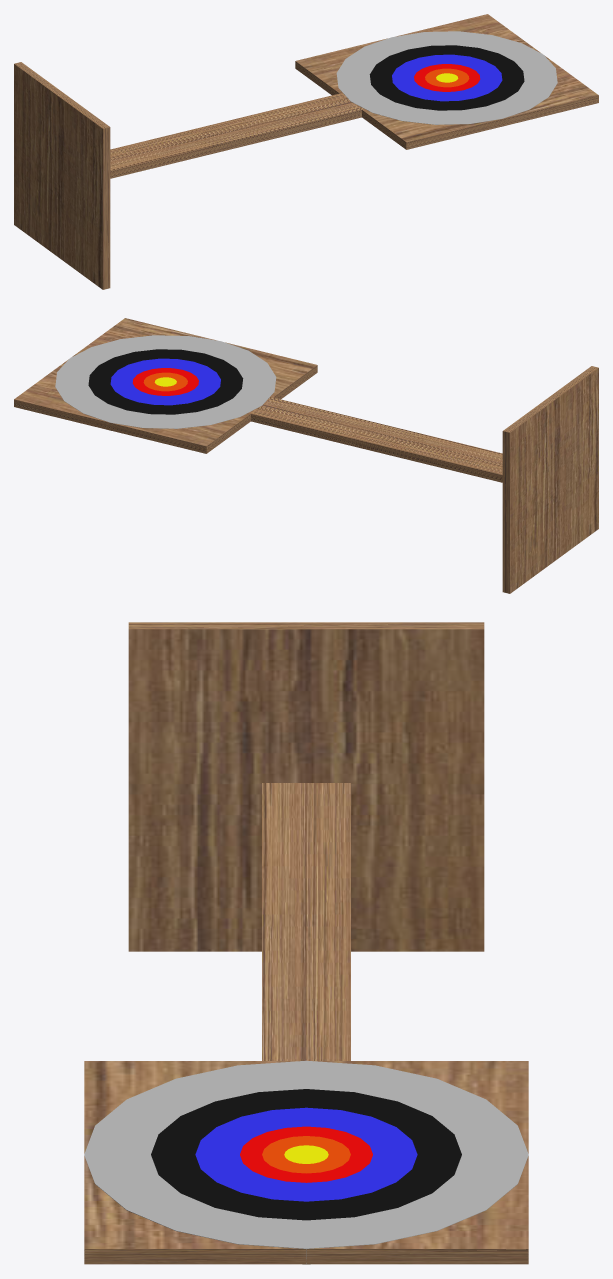
The model's file is TargetSimple.obj.
3 renders of one model, top to bottom at view 1: azimuth 30°, elevation 25°; view 2: azimuth 150°, elevation 25°; view 3: azimuth 270°, elevation 25°, orthographic. The views are drawn at different scales.
Parts seen in each view (by area): view 1: pCube4, pCylinder29, pCylinder16, pCylinder15, pCylinder12, pCylinder9, pCylinder6, pCylinder21, pCylinder23, pCylinder26; view 2: pCube4, pCylinder29, pCylinder16, pCylinder15, pCylinder12, pCylinder9, pCylinder6, pCylinder21, pCylinder23, pCylinder26; view 3: pCube4, pCylinder29, pCylinder16, pCylinder15, pCylinder12, pCylinder9, pCylinder6, pCylinder21, pCylinder23, pCylinder26.
Part boxes in pixels (x1,y1,x2,y2): pCube4: [14, 14, 598, 289]; pCylinder29: [336, 31, 557, 126]; pCylinder16: [347, 36, 546, 119]; pCylinder15: [358, 40, 535, 115]; pCylinder12: [369, 45, 524, 110]; pCylinder9: [381, 50, 513, 105]; pCylinder6: [392, 54, 502, 101]; pCylinder21: [403, 59, 491, 96]; pCylinder23: [414, 64, 480, 91]; pCylinder26: [425, 68, 469, 87]; pCube4: [14, 318, 598, 593]; pCylinder29: [55, 335, 276, 430]; pCylinder16: [66, 340, 265, 423]; pCylinder15: [77, 344, 254, 419]; pCylinder12: [88, 349, 243, 414]; pCylinder9: [99, 354, 231, 409]; pCylinder6: [110, 358, 220, 405]; pCylinder21: [121, 363, 209, 400]; pCylinder23: [132, 368, 198, 395]; pCylinder26: [143, 372, 187, 391]; pCube4: [84, 622, 528, 1264]; pCylinder29: [84, 1060, 528, 1264]; pCylinder16: [106, 1070, 506, 1239]; pCylinder15: [128, 1079, 484, 1229]; pCylinder12: [151, 1089, 461, 1220]; pCylinder9: [173, 1098, 439, 1210]; pCylinder6: [195, 1107, 417, 1201]; pCylinder21: [217, 1117, 395, 1192]; pCylinder23: [240, 1126, 372, 1182]; pCylinder26: [262, 1136, 350, 1173].
Bounding box in the file's own units: 12.6 × 4 × 5.
Materials: 7 (1 with a texture image).
